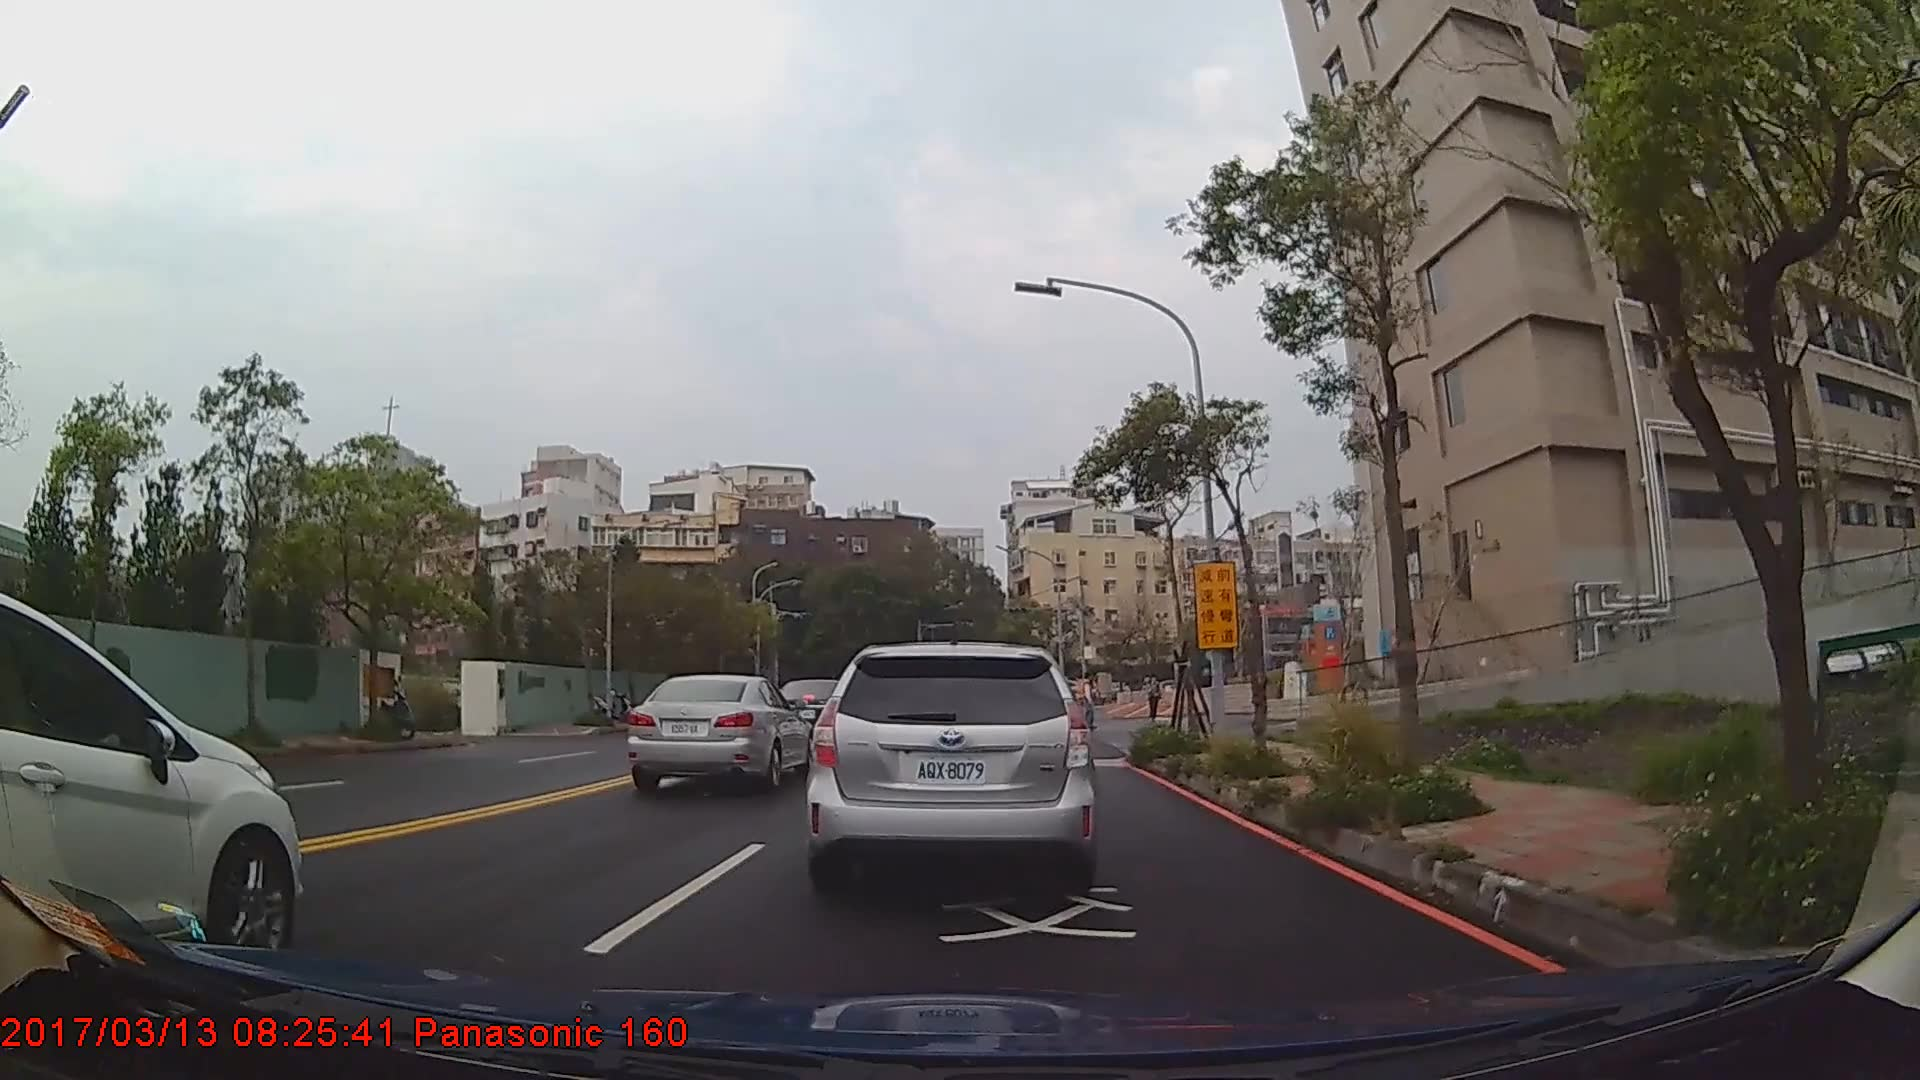pedestrian: (1080, 669, 1101, 732)
vehicle: (0, 590, 301, 964), (805, 638, 1100, 897), (625, 673, 814, 789)
